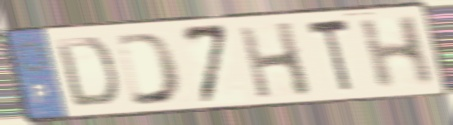7: (180, 21, 234, 108)
D: (112, 30, 184, 108), (52, 35, 120, 110)
H: (235, 19, 316, 101), (356, 12, 437, 92)
T: (304, 15, 355, 96)
